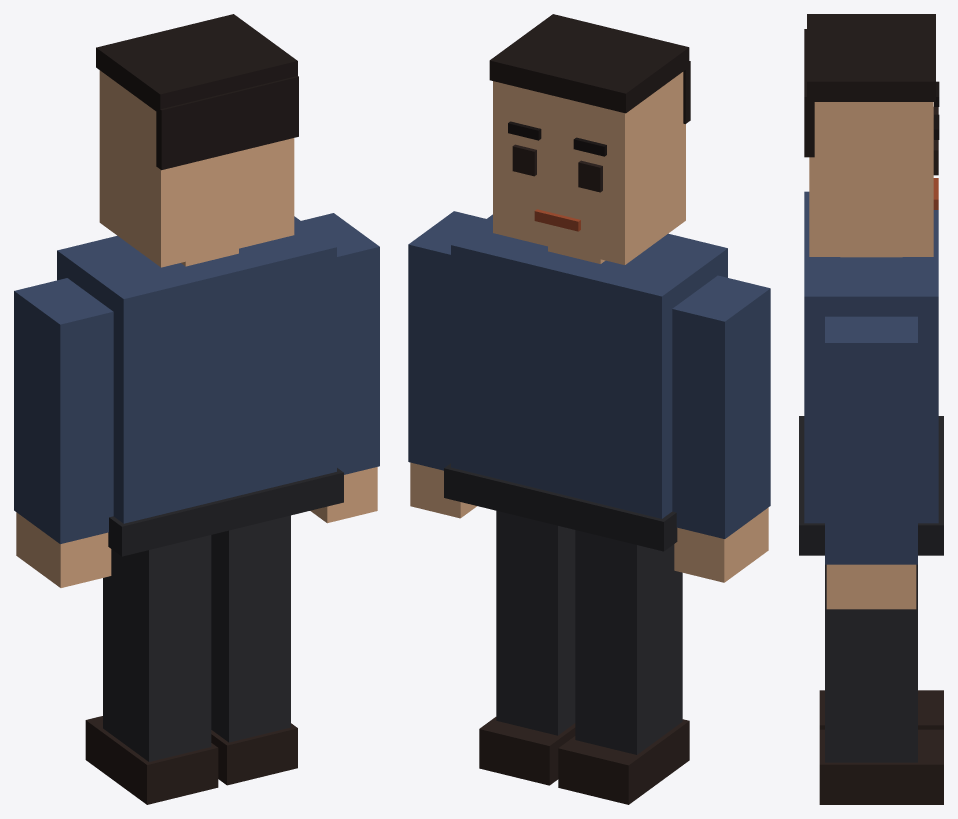
The model's file is middle_principal.glb.
The picture shows the model from 3 angles, left to right: view 1: azimuth 30°, elevation 25°; view 2: azimuth 150°, elevation 25°; view 3: azimuth 270°, elevation 25°; orthographic projection.
Parts seen in each view (by area): view 1: Box9, Box3, Box12, Box1, Box5, Box18, Box7, Box19, Box10, Box2, Box4, Box6 (+1 smaller); view 2: Box9, Box12, Box3, Box1, Box5, Box18, Box7, Box10, Box2, Box6, Box4, Box8 (+2 smaller); view 3: Box7, Box12, Box9, Box5, Box18, Box6, Box8, Box10, Box2, Box19.
Boxes of the visible parts, x1,y1,x2,y2 form: Box9: [57, 216, 336, 523]; Box3: [14, 278, 113, 544]; Box12: [99, 70, 294, 267]; Box1: [103, 535, 211, 761]; Box5: [211, 515, 290, 742]; Box18: [96, 14, 297, 113]; Box7: [301, 213, 379, 474]; Box19: [156, 76, 298, 170]; Box10: [108, 468, 343, 556]; Box2: [85, 716, 218, 804]; Box4: [16, 512, 111, 587]; Box6: [211, 723, 297, 785]; Box9: [451, 214, 727, 518]; Box12: [493, 72, 685, 264]; Box3: [672, 275, 770, 538]; Box1: [575, 530, 682, 754]; Box5: [496, 510, 575, 735]; Box18: [489, 14, 689, 113]; Box7: [408, 211, 485, 470]; Box10: [444, 463, 677, 551]; Box2: [558, 719, 689, 804]; Box6: [479, 717, 575, 785]; Box4: [674, 507, 768, 582]; Box8: [410, 462, 476, 518]; Box7: [825, 316, 917, 564]; Box12: [809, 102, 933, 256]; Box9: [804, 191, 938, 523]; Box5: [825, 564, 917, 762]; Box18: [807, 14, 935, 101]; Box6: [819, 729, 943, 804]; Box8: [826, 564, 916, 609]; Box10: [799, 416, 943, 555]; Box2: [819, 690, 943, 729]; Box19: [804, 29, 814, 157].
Size of the model in its own units: 0.8165 by 1.74 by 0.3175.
